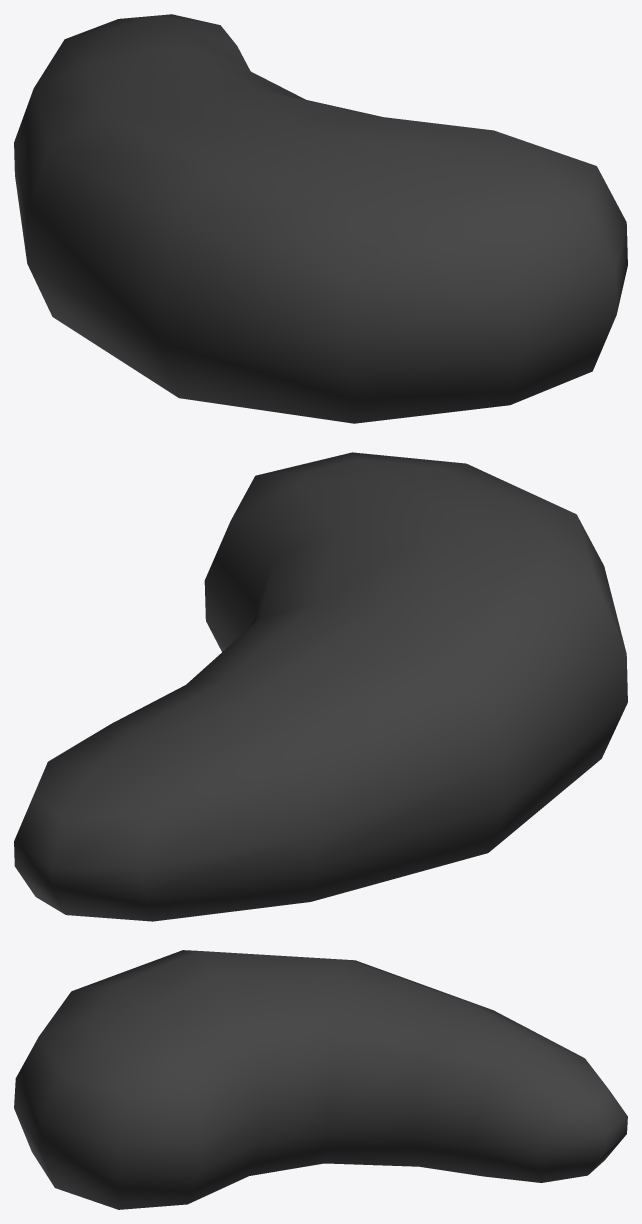
The model's file is Cashew.glb.
3 views of the same model, one above another, from view 1: azimuth 30°, elevation 25°; view 2: azimuth 150°, elevation 25°; view 3: azimuth 270°, elevation 25° (orthographic). The views are drawn at different scales.
Parts seen in each view (by area): view 1: geometry_0; view 2: geometry_0; view 3: geometry_0.
Boxes of the visible parts, x1=… form: geometry_0: x1=14, y1=14, x2=627, y2=423; geometry_0: x1=14, y1=452, x2=627, y2=921; geometry_0: x1=14, y1=950, x2=627, y2=1209.
Size of the model in its own units: 2.17 by 1.15 by 3.66.
1 material, 1 textured.
